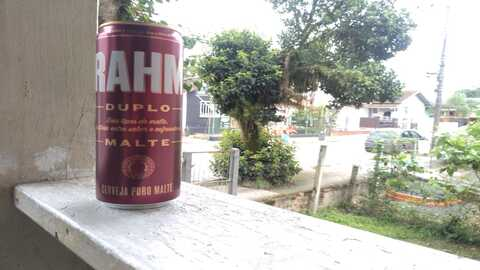duplo_malte: (95, 24, 186, 211)
